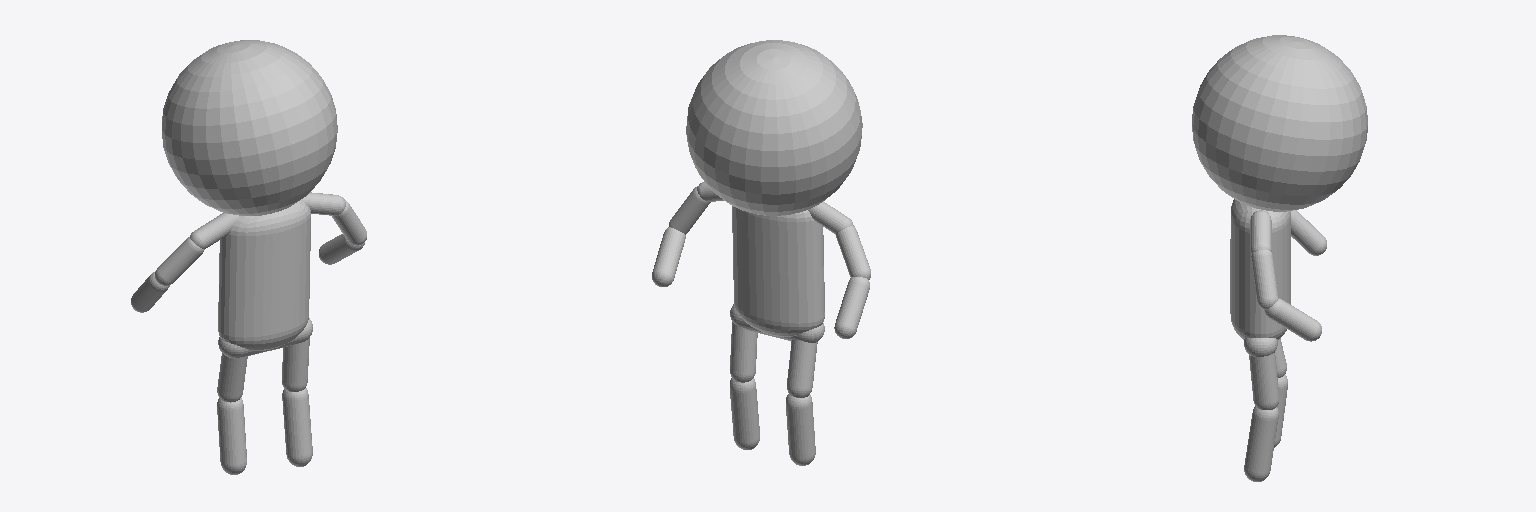
The model's file is Stickman_000057.obj.
3 renders of one model, left to right at view 1: azimuth 30°, elevation 25°; view 2: azimuth 150°, elevation 25°; view 3: azimuth 270°, elevation 25°, orthographic.
Visible parts, largest first — view 1: Head_Sphere.001, Body_Roundcube.002, LowerLegLeft_Roundcube.013, LowerLegRight_Roundcube.011, UpperLegLeft_Roundcube.012, UpperArmRight_Roundcube.015, UpperLegRight_Roundcube.010, ShoulderRight_Roundcube.014, LowerArmRight_Roundcube.016, UpperArmLeft_Roundcube.018, ShoulderLeft_Roundcube.017, LowerArmLeft_Roundcube.019 (+1 smaller); view 2: Head_Sphere.001, Body_Roundcube.002, LowerLegRight_Roundcube.011, LowerLegLeft_Roundcube.013, UpperLegRight_Roundcube.010, LowerArmRight_Roundcube.016, UpperLegLeft_Roundcube.012, LowerArmLeft_Roundcube.019, UpperArmRight_Roundcube.015, UpperArmLeft_Roundcube.018, ShoulderRight_Roundcube.014, Hip_Roundcube.005; view 3: Head_Sphere.001, Body_Roundcube.002, LowerLegLeft_Roundcube.013, UpperLegLeft_Roundcube.012, LowerArmLeft_Roundcube.019, UpperArmLeft_Roundcube.018, LowerArmRight_Roundcube.016, ShoulderLeft_Roundcube.017, Hip_Roundcube.005.
Part boxes in pixels (bbox=[...]): Head_Sphere.001: bbox=[162, 40, 337, 215]; Body_Roundcube.002: bbox=[218, 200, 310, 350]; LowerLegLeft_Roundcube.013: bbox=[282, 388, 312, 466]; LowerLegRight_Roundcube.011: bbox=[217, 398, 246, 474]; UpperLegLeft_Roundcube.012: bbox=[282, 338, 309, 391]; UpperArmRight_Roundcube.015: bbox=[155, 237, 203, 285]; UpperLegRight_Roundcube.010: bbox=[217, 353, 247, 402]; ShoulderRight_Roundcube.014: bbox=[190, 213, 238, 249]; LowerArmRight_Roundcube.016: bbox=[131, 271, 169, 312]; UpperArmLeft_Roundcube.018: bbox=[332, 199, 366, 245]; ShoulderLeft_Roundcube.017: bbox=[301, 192, 345, 215]; LowerArmLeft_Roundcube.019: bbox=[319, 234, 364, 264]; Head_Sphere.001: bbox=[686, 40, 862, 215]; Body_Roundcube.002: bbox=[732, 206, 824, 336]; LowerLegRight_Roundcube.011: bbox=[786, 394, 815, 465]; LowerLegLeft_Roundcube.013: bbox=[730, 378, 759, 449]; UpperLegRight_Roundcube.010: bbox=[787, 340, 817, 397]; LowerArmRight_Roundcube.016: bbox=[834, 277, 869, 338]; UpperLegLeft_Roundcube.012: bbox=[730, 322, 757, 382]; LowerArmLeft_Roundcube.019: bbox=[652, 227, 685, 286]; UpperArmRight_Roundcube.015: bbox=[836, 225, 870, 279]; UpperArmLeft_Roundcube.018: bbox=[669, 186, 710, 234]; ShoulderRight_Roundcube.014: bbox=[808, 201, 853, 234]; Hip_Roundcube.005: bbox=[730, 304, 824, 342]; Head_Sphere.001: bbox=[1192, 35, 1367, 211]; Body_Roundcube.002: bbox=[1230, 199, 1290, 339]; LowerLegLeft_Roundcube.013: bbox=[1244, 406, 1278, 481]; UpperLegLeft_Roundcube.012: bbox=[1249, 353, 1278, 409]; LowerArmLeft_Roundcube.019: bbox=[1264, 298, 1321, 341]; UpperArmLeft_Roundcube.018: bbox=[1251, 250, 1278, 309]; LowerArmRight_Roundcube.016: bbox=[1291, 210, 1326, 255]; ShoulderLeft_Roundcube.017: bbox=[1250, 210, 1271, 253]; Hip_Roundcube.005: bbox=[1244, 338, 1277, 356].
Bounding box in the file's own units: 6.48 × 12.29 × 4.7.